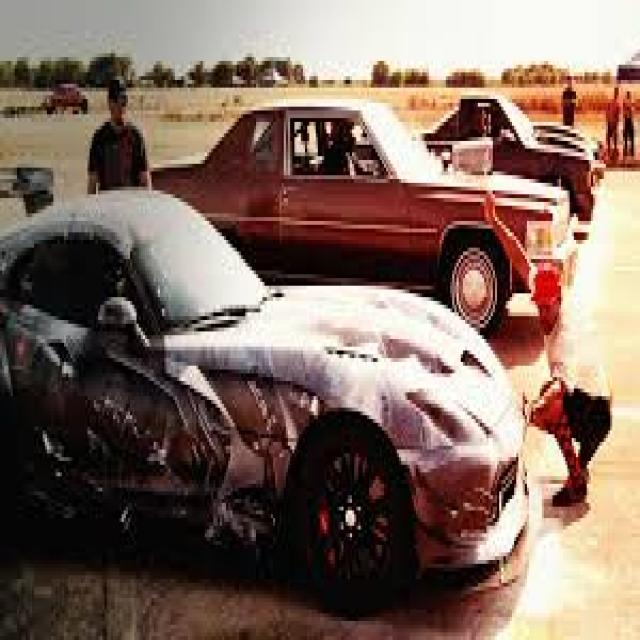Car: (0, 178, 543, 584), (118, 88, 571, 298), (424, 77, 597, 227)
